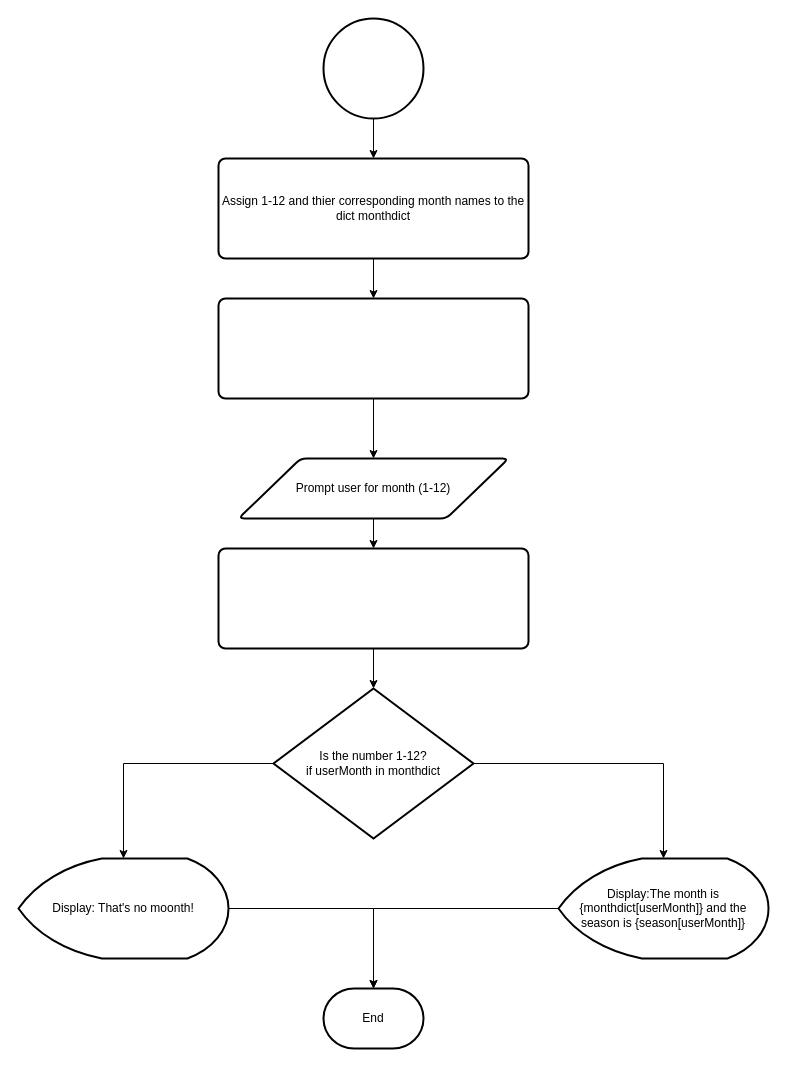
This 786x1066 diagram has some shape labels left out. Each missing label, with the centre of its shape:
Assign 1-12 and thier corresponding season to the dict seasons: the point at 373,348
Assign user generated number to userMonth: the point at 373,598
Start: the point at 373,68
